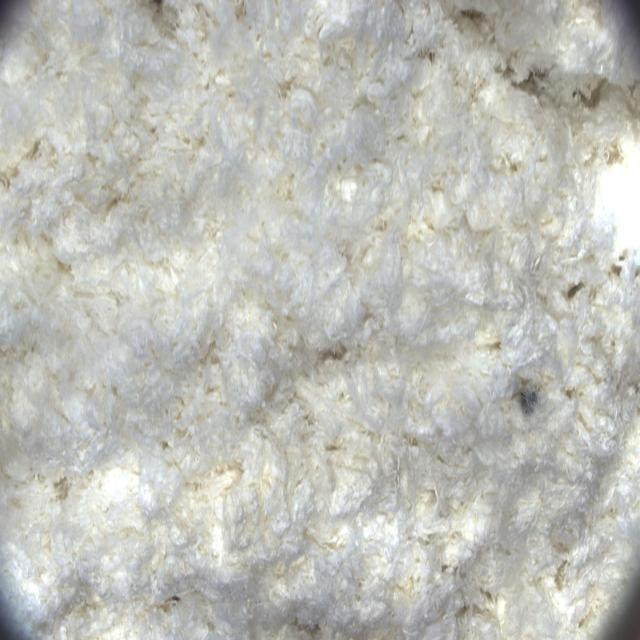dust: (492, 365, 555, 427)
